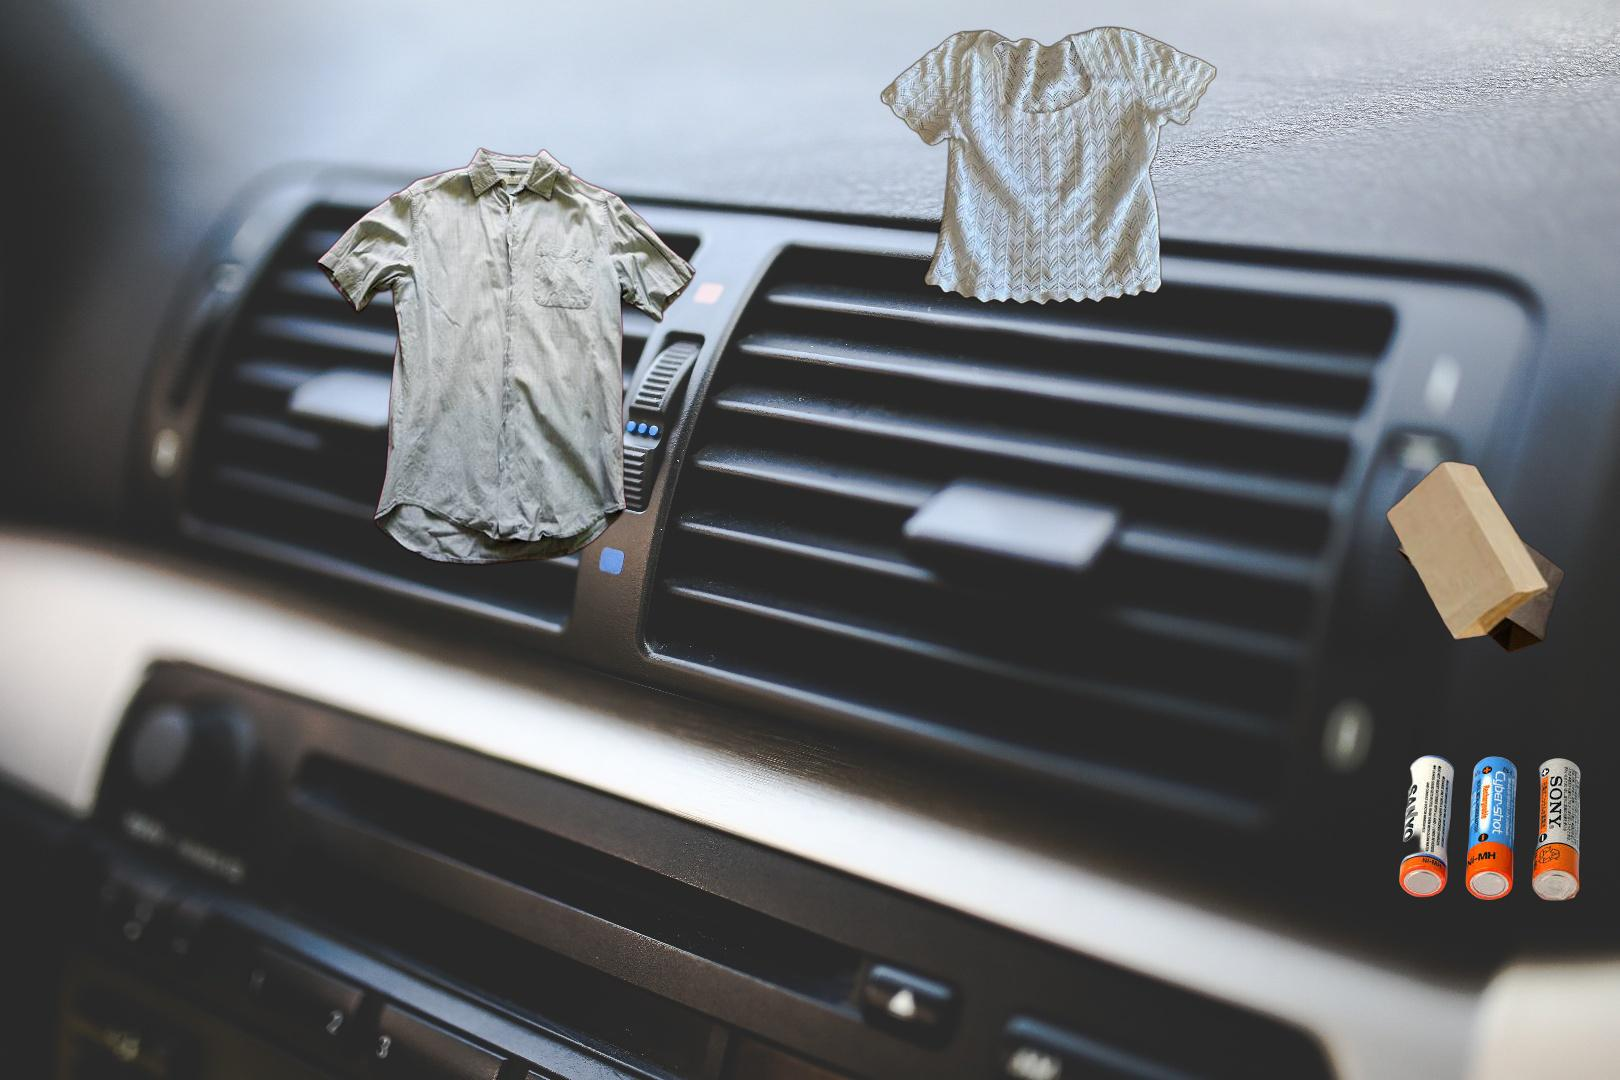battery: (1396, 752, 1584, 904)
clothes: (315, 143, 699, 570), (876, 25, 1220, 309)
paper-bag: (1384, 460, 1566, 655)
